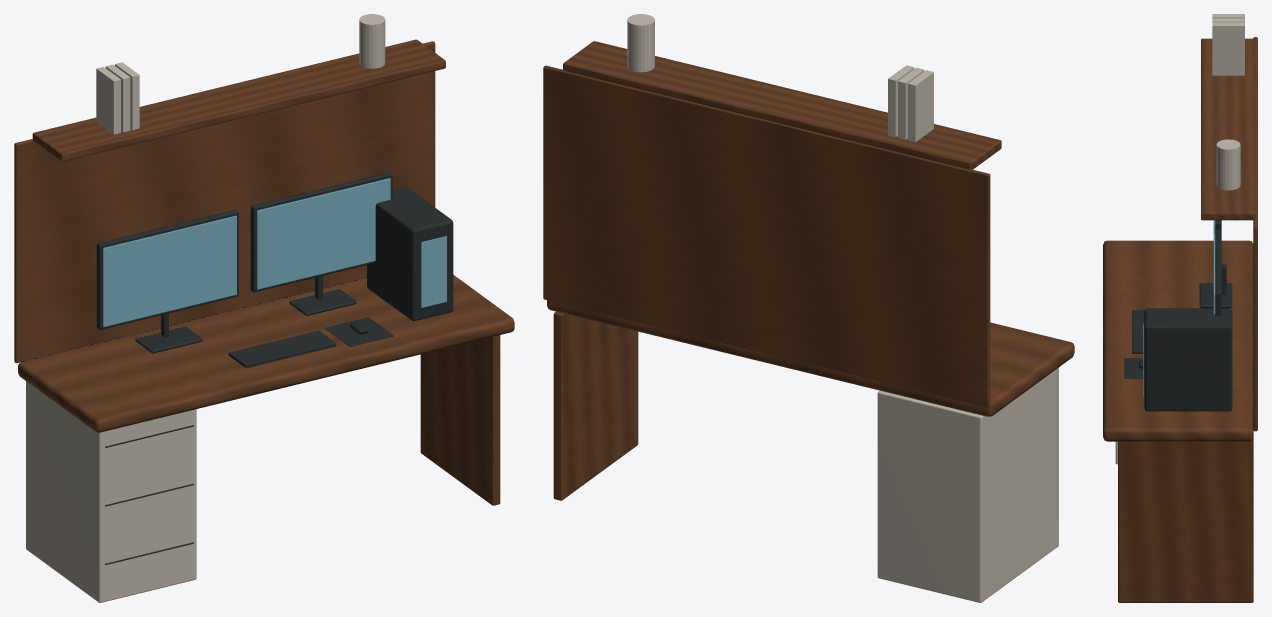
Rendered from walnut-dual-monitor-desk.glb.
3 renders of one model, left to right at view 1: azimuth 30°, elevation 25°; view 2: azimuth 150°, elevation 25°; view 3: azimuth 270°, elevation 25°, orthographic. The views are drawn at different scales.
Visible parts, largest first — view 1: Rounded walnut desktop, Left drawer pedestal, Monitor face, Drawer shadow line; view 2: Rounded walnut desktop, Left drawer pedestal; view 3: Rounded walnut desktop, Drawer shadow line, Left drawer pedestal, Monitor face.
Part boxes in pixels (x1,y1,x2,y2): Rounded walnut desktop: [14, 39, 514, 505]; Left drawer pedestal: [26, 14, 385, 602]; Monitor face: [103, 178, 446, 326]; Drawer shadow line: [96, 172, 453, 564]; Rounded walnut desktop: [543, 41, 1074, 500]; Left drawer pedestal: [627, 14, 1058, 602]; Rounded walnut desktop: [1103, 37, 1257, 602]; Drawer shadow line: [1124, 220, 1232, 411]; Left drawer pedestal: [1115, 14, 1244, 464]; Monitor face: [1143, 220, 1215, 396].
Size of the model in its own units: 1.8 by 1.92 by 0.617.
Materials: 5 (1 with a texture image).
